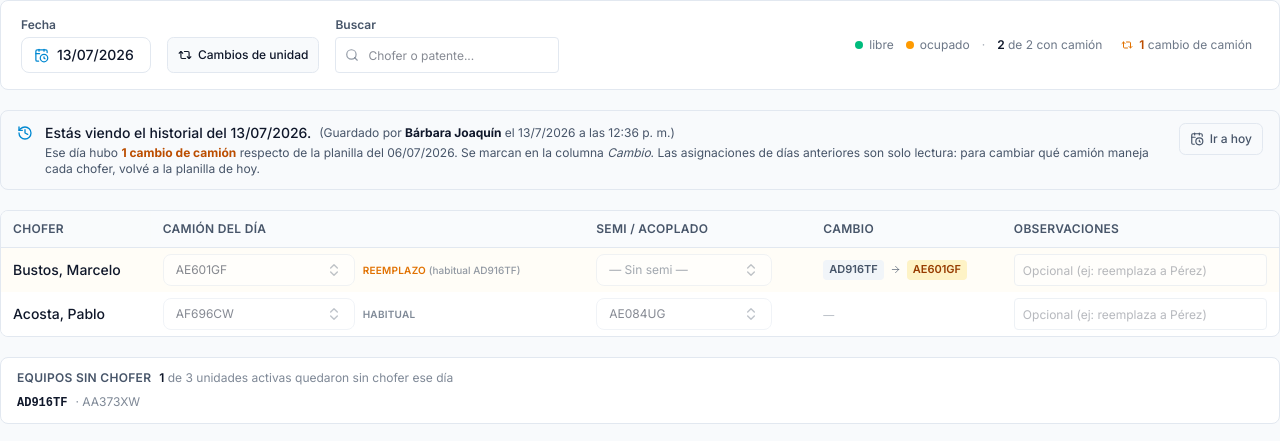
Test: PlanillaDiariaClient · marca de cambio de camión › filtra a solo los choferes que cambiaron
This screenshot has width=1280, height=441.
What coordinates should you click on to do the following:
click the button titled "Ver solo los que cambiaron"
I would click on:
 (1187, 45)
Its box is [1114,34,1259,56].
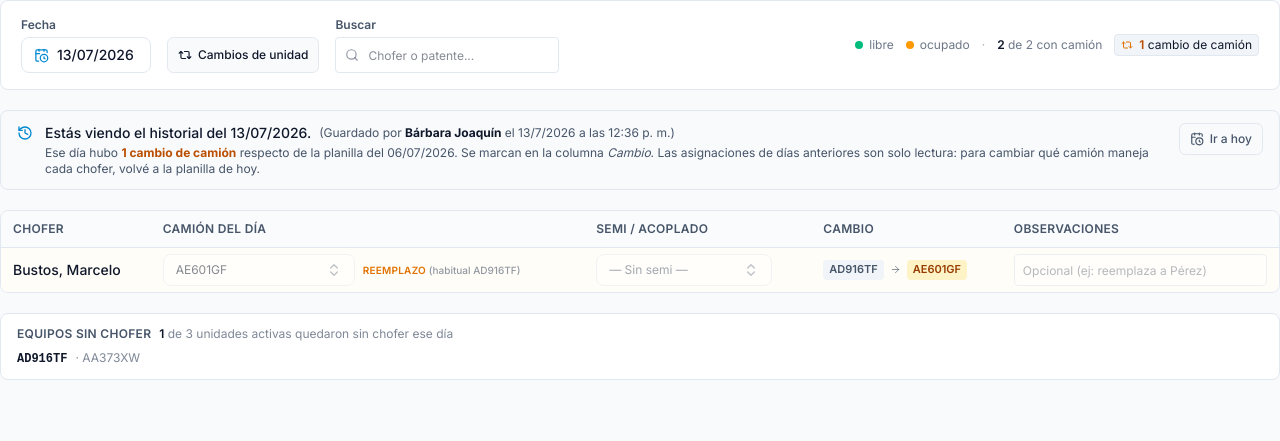
Expected: the text "Bustos, Marcelo" is shown, [13,261,121,278]
Expected: the text "Acosta," is gone
